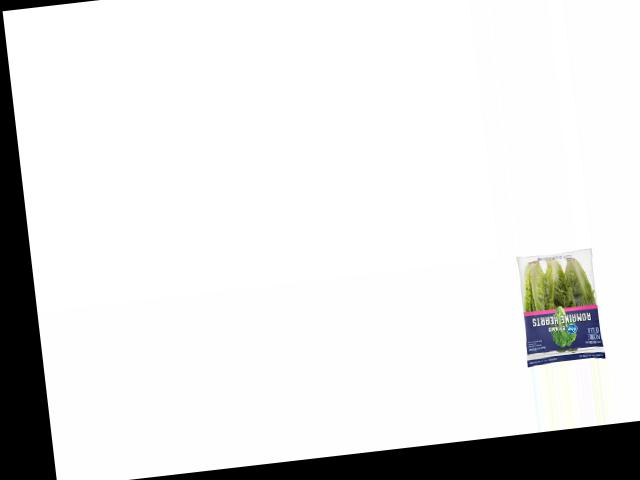lettuce: (511, 250, 608, 365)
